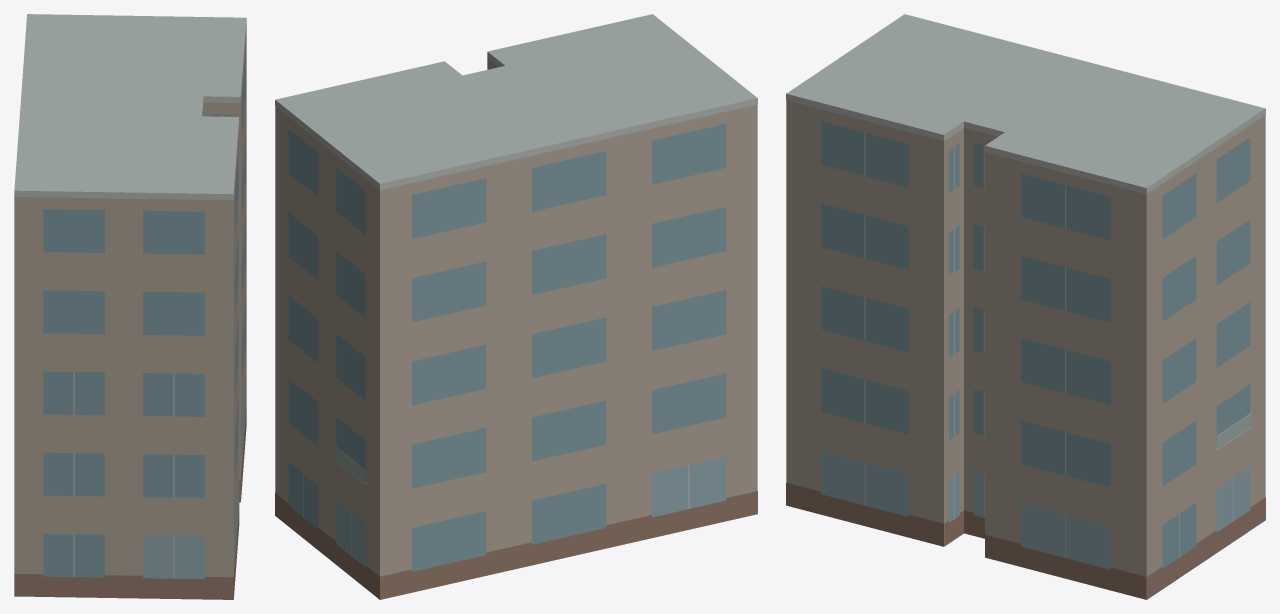
File: survey-upis-32517613.glb
3 renders of one model, left to right at view 1: azimuth 30°, elevation 25°; view 2: azimuth 150°, elevation 25°; view 3: azimuth 270°, elevation 25°, orthographic. The views are drawn at different scales.
Visible parts, largest first — view 1: survey-upis-32517613.tmp; view 2: survey-upis-32517613.tmp; view 3: survey-upis-32517613.tmp.
Boxes of the visible parts, left/top/right/bottom form: survey-upis-32517613.tmp: left=14, top=14, right=246, bottom=599; survey-upis-32517613.tmp: left=275, top=14, right=757, bottom=599; survey-upis-32517613.tmp: left=786, top=14, right=1265, bottom=599.
Bounding box in the file's own units: 14.43 × 15.9 × 16.79.
